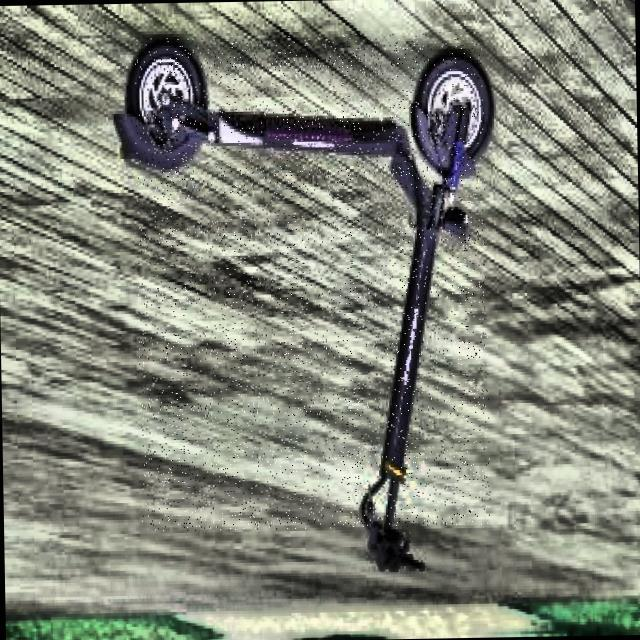bike: (111, 28, 494, 574)
